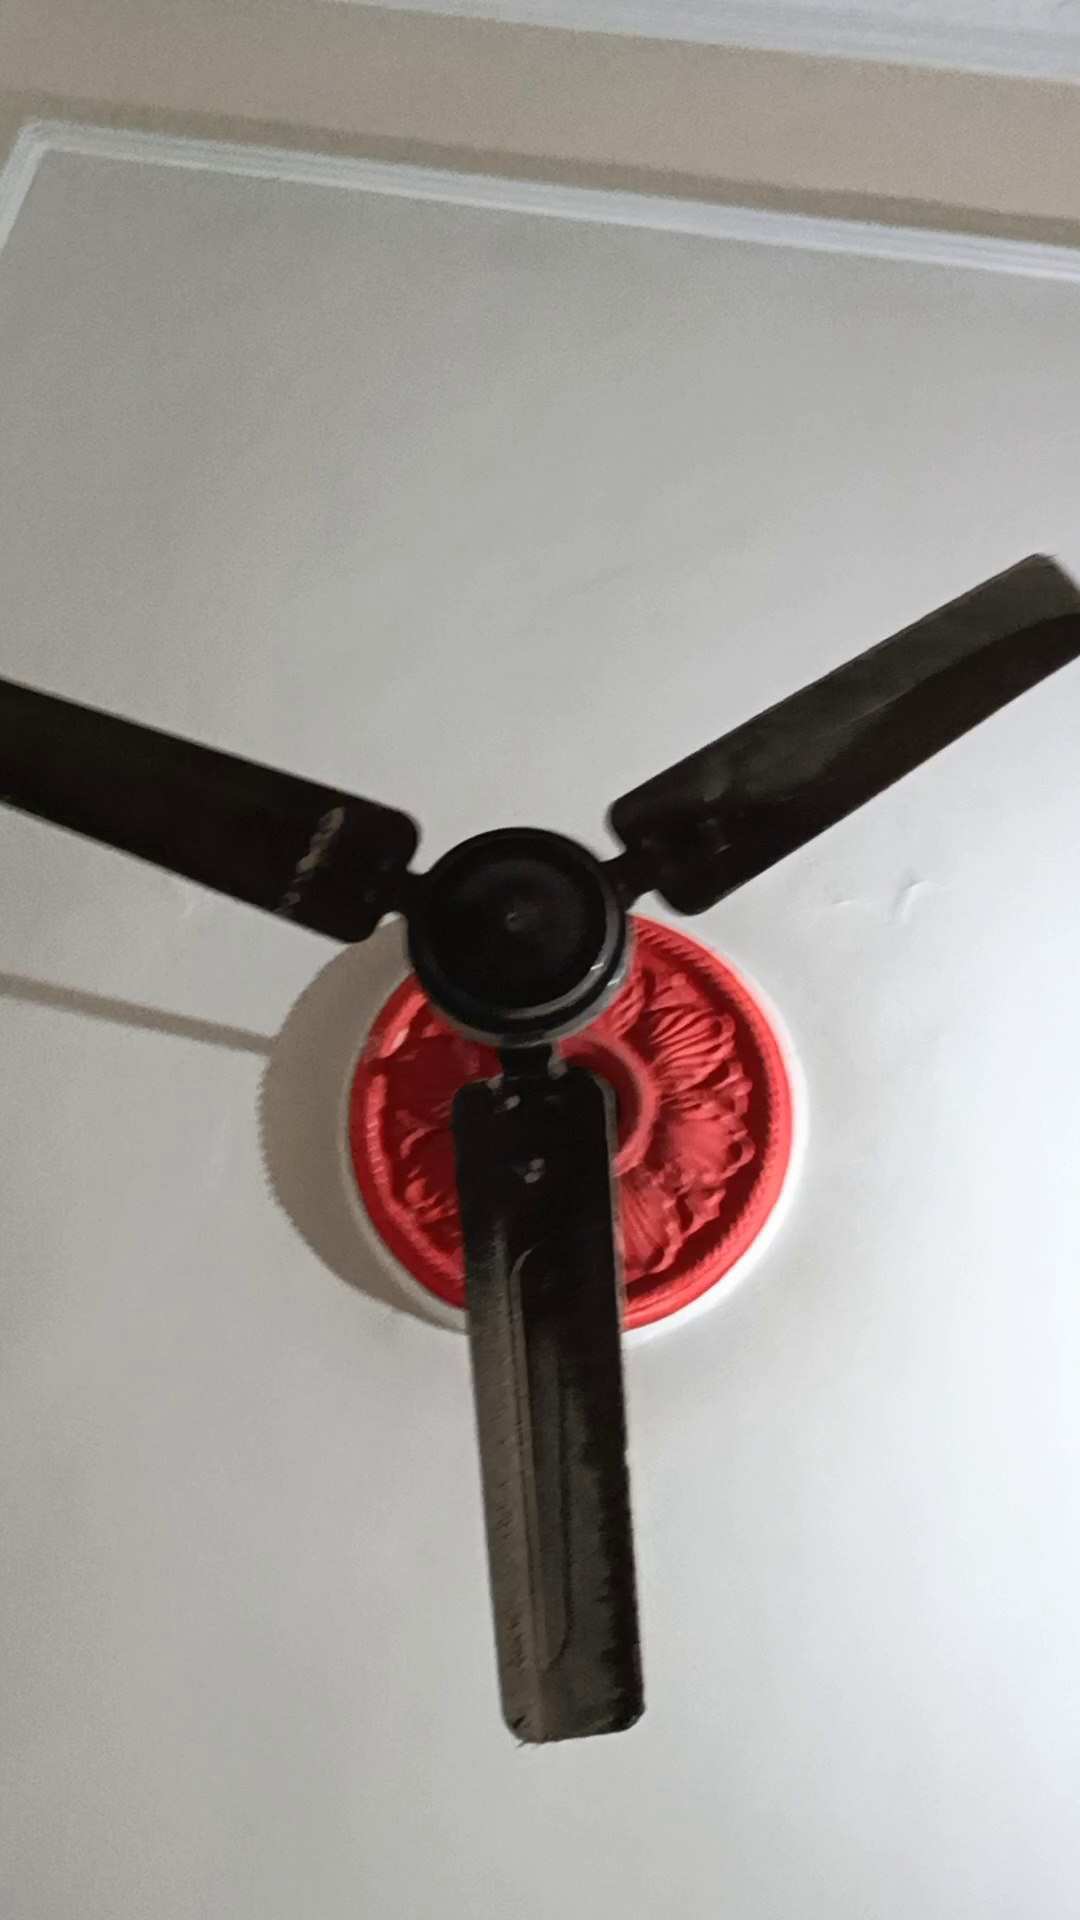fan: (195, 717, 856, 1327)
